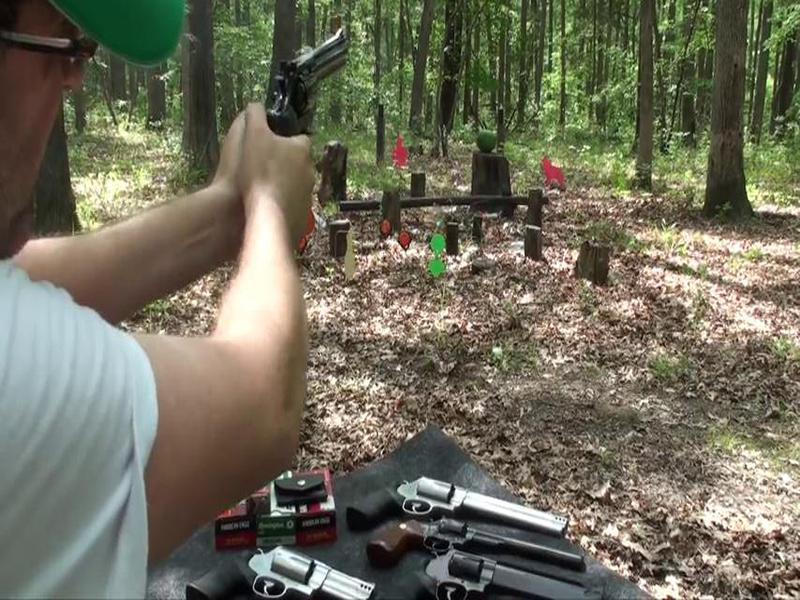Revolver: (254, 20, 365, 159)
